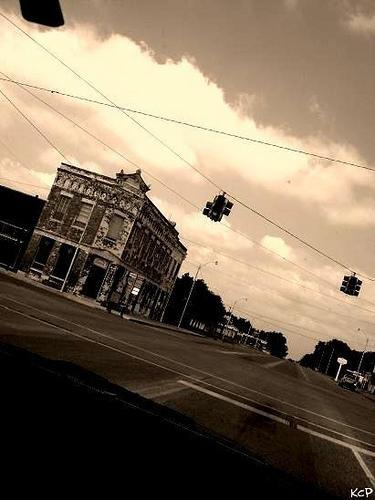car: (338, 374, 358, 392), (259, 344, 271, 354)
